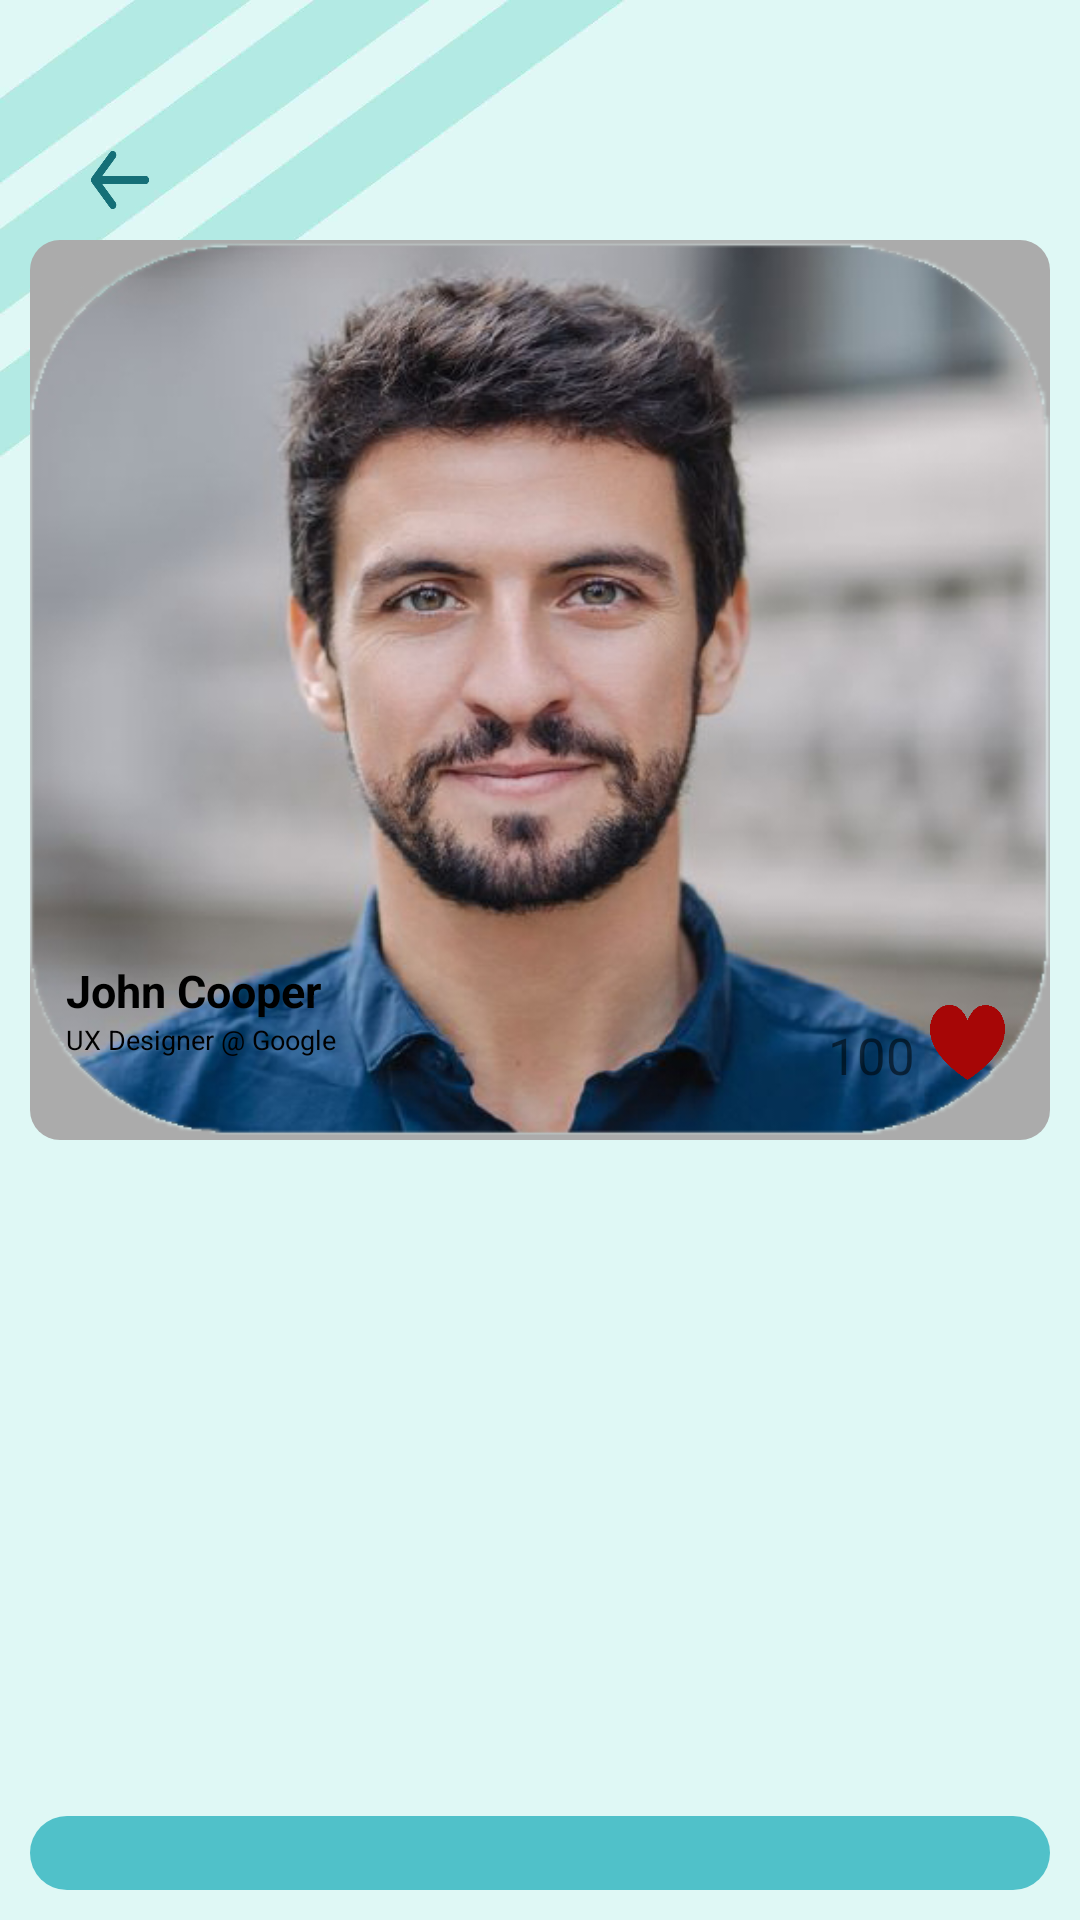

Icons on this 1080*1920 Android screen, each with the point to tap as [x,y]:
back arrow: [120,180]
heart: [967,1042]
